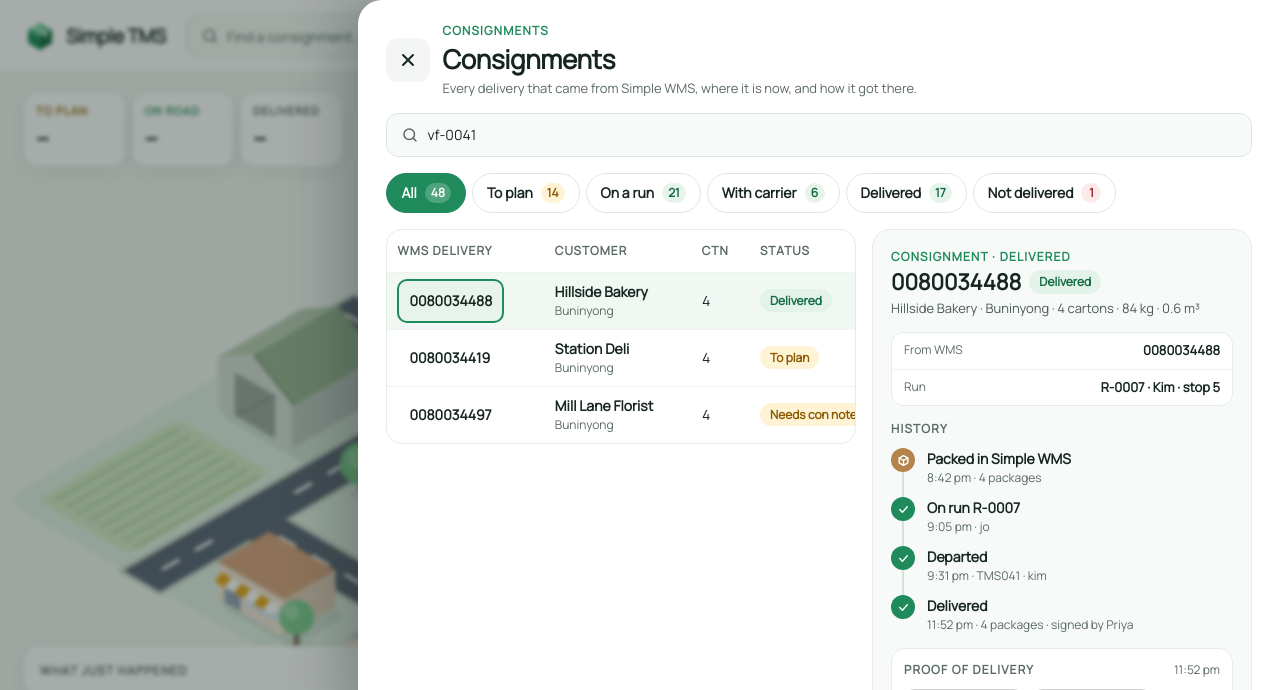
Test: Consignments › finds by what was typed on the map, and by tab
Check: the search field named "Search consignments" holds "vf-0041", box left=427, top=124, right=1237, bottom=145
What coordinates should you click on to do the following:
click the tab "With carrier 6"
I would click on:
 (773, 192)
Its box is left=707, top=172, right=840, bottom=212.
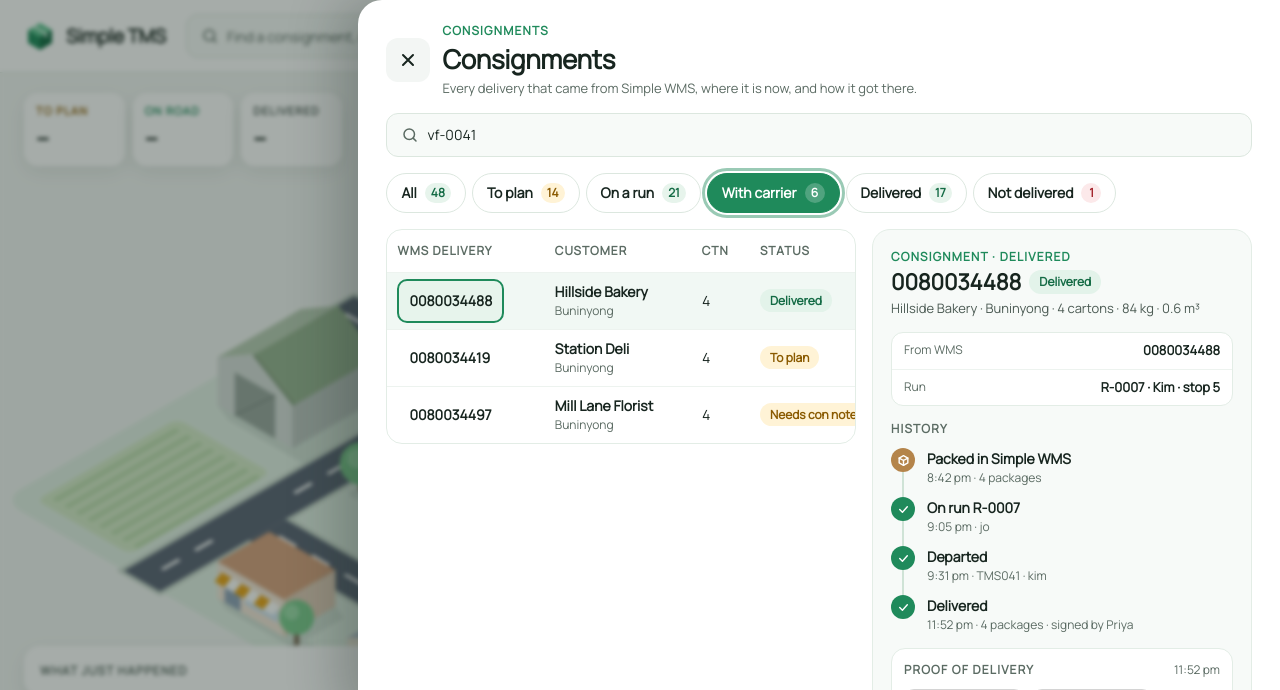
What coordinates should you click on to do the following:
click the button named "Show 0080034497"
I would click on:
 (450, 414)
Its box is left=397, top=392, right=504, bottom=436.
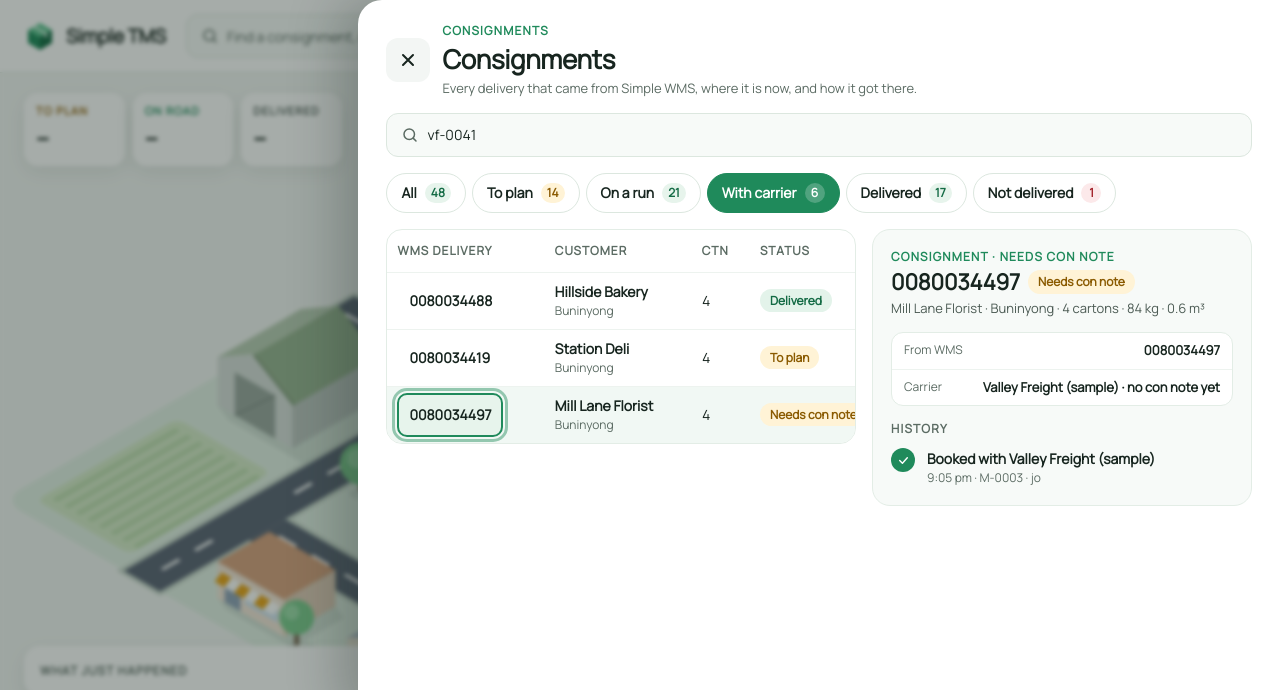
Check: the text "Booked with Valley Freight (sample)" is shown, box left=927, top=448, right=1155, bottom=469
Check: the text "Valley Freight (sample) · no con note yet" is shown, box left=983, top=378, right=1220, bottom=397
